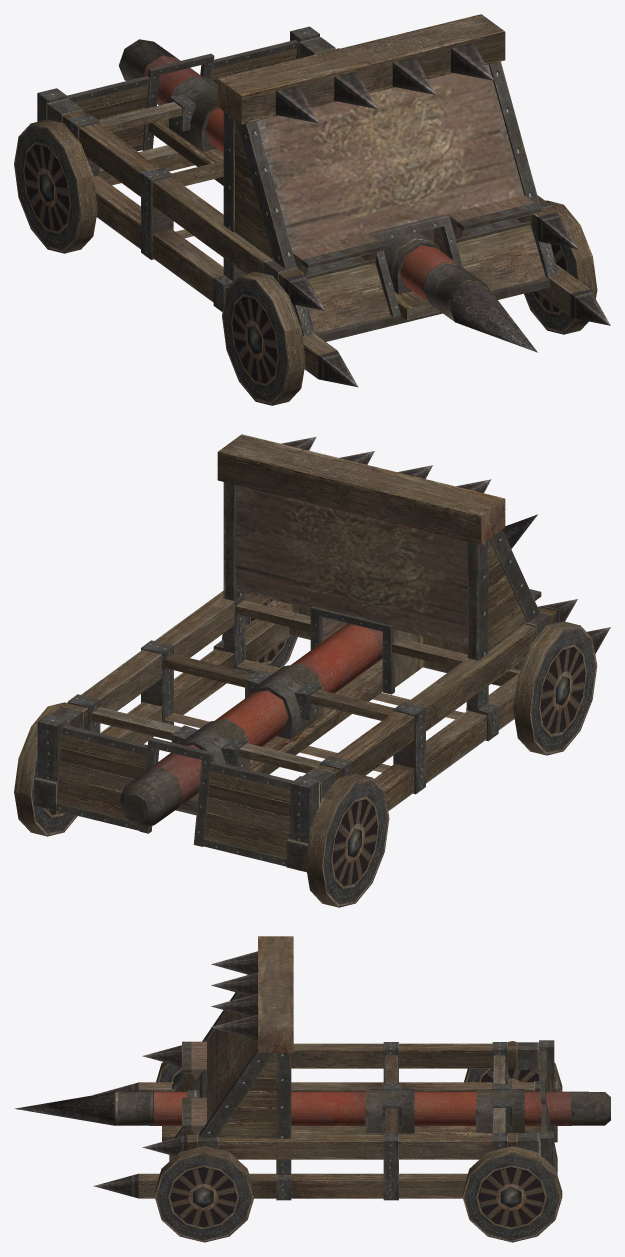
The model's file is ROTK14-SOURCE-SIEGE-C0D5FA9C-v2.glb.
3 views of the same model, one above another, from view 1: azimuth 30°, elevation 25°; view 2: azimuth 150°, elevation 25°; view 3: azimuth 270°, elevation 25° (orthographic). The views are drawn at different scales.
Visible parts, largest first — view 1: SourceLOD0Group4Submesh4, SourceLOD0Group1Submesh1, SourceLOD0Group8Submesh8, SourceLOD0Group20Submesh20, SourceLOD0Group3Submesh3, SourceLOD0Group6Submesh6, SourceLOD0Group14Submesh14, SourceLOD0Group17Submesh17, SourceLOD0Group9Submesh9, SourceLOD0Group7Submesh7, SourceLOD0Group0Submesh0, SourceLOD0Group21Submesh21 (+10 smaller); view 2: SourceLOD0Group6Submesh6, SourceLOD0Group1Submesh1, SourceLOD0Group8Submesh8, SourceLOD0Group22Submesh22, SourceLOD0Group14Submesh14, SourceLOD0Group0Submesh0, SourceLOD0Group20Submesh20, SourceLOD0Group13Submesh13, SourceLOD0Group23Submesh23, SourceLOD0Group3Submesh3, SourceLOD0Group12Submesh12, SourceLOD0Group21Submesh21 (+9 smaller); view 3: SourceLOD0Group1Submesh1, SourceLOD0Group6Submesh6, SourceLOD0Group0Submesh0, SourceLOD0Group12Submesh12, SourceLOD0Group8Submesh8, SourceLOD0Group3Submesh3, SourceLOD0Group14Submesh14, SourceLOD0Group17Submesh17, SourceLOD0Group4Submesh4, SourceLOD0Group10Submesh10, SourceLOD0Group13Submesh13, SourceLOD0Group9Submesh9 (+6 smaller).
Part boxes in pixels (<box>): SourceLOD0Group4Submesh4: <box>257,64,524,251</box>; SourceLOD0Group1Submesh1: <box>14,39,597,405</box>; SourceLOD0Group8Submesh8: <box>217,14,505,124</box>; SourceLOD0Group20Submesh20: <box>148,119,545,333</box>; SourceLOD0Group3Submesh3: <box>223,61,541,268</box>; SourceLOD0Group6Submesh6: <box>63,49,556,290</box>; SourceLOD0Group14Submesh14: <box>93,102,337,378</box>; SourceLOD0Group17Submesh17: <box>168,76,549,341</box>; SourceLOD0Group9Submesh9: <box>276,85,610,387</box>; SourceLOD0Group7Submesh7: <box>334,42,493,109</box>; SourceLOD0Group0Submesh0: <box>143,55,458,302</box>; SourceLOD0Group21Submesh21: <box>67,40,298,150</box>; SourceLOD0Group6Submesh6: <box>65,485,556,781</box>; SourceLOD0Group1Submesh1: <box>14,514,597,907</box>; SourceLOD0Group8Submesh8: <box>217,434,505,544</box>; SourceLOD0Group22Submesh22: <box>57,735,290,858</box>; SourceLOD0Group14Submesh14: <box>91,654,519,810</box>; SourceLOD0Group0Submesh0: <box>148,623,382,808</box>; SourceLOD0Group20Submesh20: <box>164,600,524,812</box>; SourceLOD0Group13Submesh13: <box>37,640,425,842</box>; SourceLOD0Group23Submesh23: <box>56,595,498,866</box>; SourceLOD0Group3Submesh3: <box>223,482,541,660</box>; SourceLOD0Group12Submesh12: <box>100,601,292,743</box>; SourceLOD0Group21Submesh21: <box>61,725,293,846</box>; SourceLOD0Group1Submesh1: <box>14,1041,610,1242</box>; SourceLOD0Group6Submesh6: <box>187,1043,516,1159</box>; SourceLOD0Group0Submesh0: <box>154,1091,571,1125</box>; SourceLOD0Group12Submesh12: <box>138,1173,467,1198</box>; SourceLOD0Group8Submesh8: <box>258,936,293,1052</box>; SourceLOD0Group3Submesh3: <box>182,974,291,1138</box>; SourceLOD0Group14Submesh14: <box>138,1055,534,1132</box>; SourceLOD0Group17Submesh17: <box>169,1089,524,1161</box>; SourceLOD0Group4Submesh4: <box>207,993,257,1121</box>; SourceLOD0Group10Submesh10: <box>217,1053,276,1138</box>; SourceLOD0Group13Submesh13: <box>172,1040,554,1200</box>; SourceLOD0Group9Submesh9: <box>93,951,257,1198</box>.
Bounding box in the file's own units: 202 × 171 × 457.
Materials: 2 (2 with a texture image).
